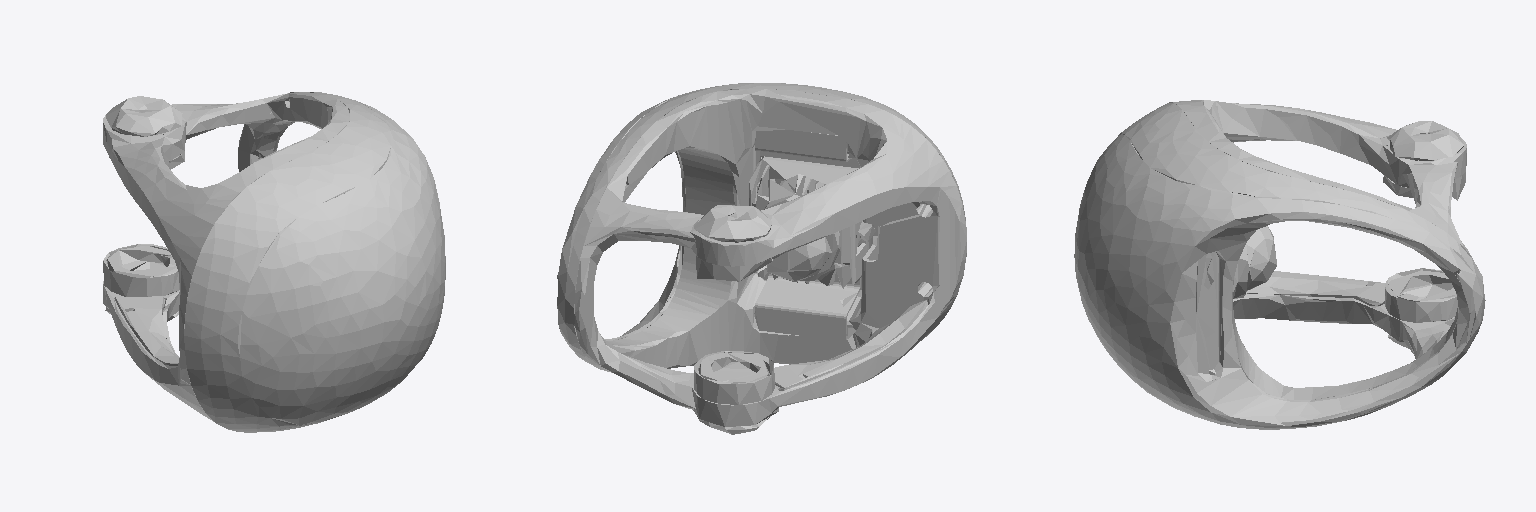
Rendered from head.obj.
3 views of the same model, side by side, from view 1: azimuth 30°, elevation 25°; view 2: azimuth 150°, elevation 25°; view 3: azimuth 270°, elevation 25° (orthographic).
Parts seen in each view (by area): view 1: obj1; view 2: obj1; view 3: obj1.
Part boxes in pixels (bbox=[...]): obj1: bbox=[103, 92, 445, 432]; obj1: bbox=[557, 83, 966, 434]; obj1: bbox=[1074, 100, 1485, 429].
Bounding box in the file's own units: 0.1773 × 0.1677 × 0.2329.